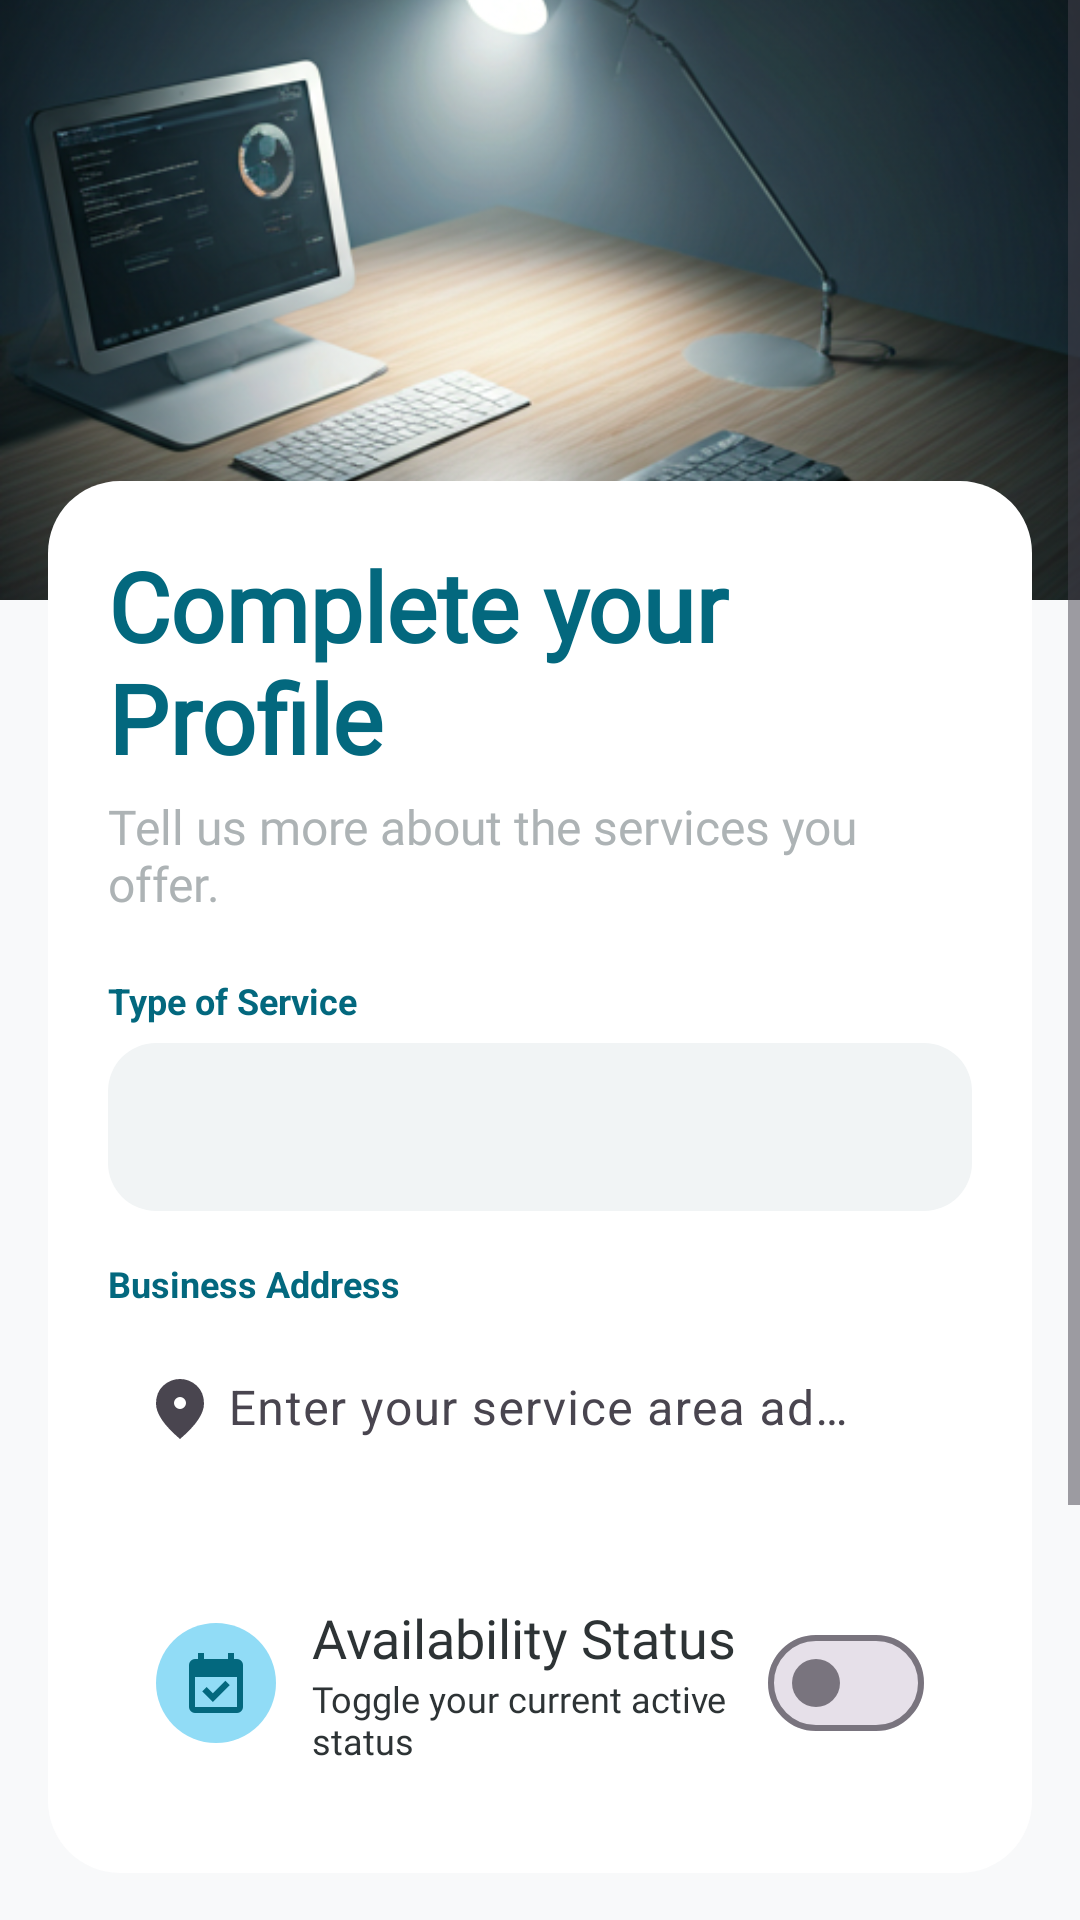

Where to tap for icons on this 1080w x 1920h app screen, as (x=x, y=y):
available: (x=216, y=1683)
